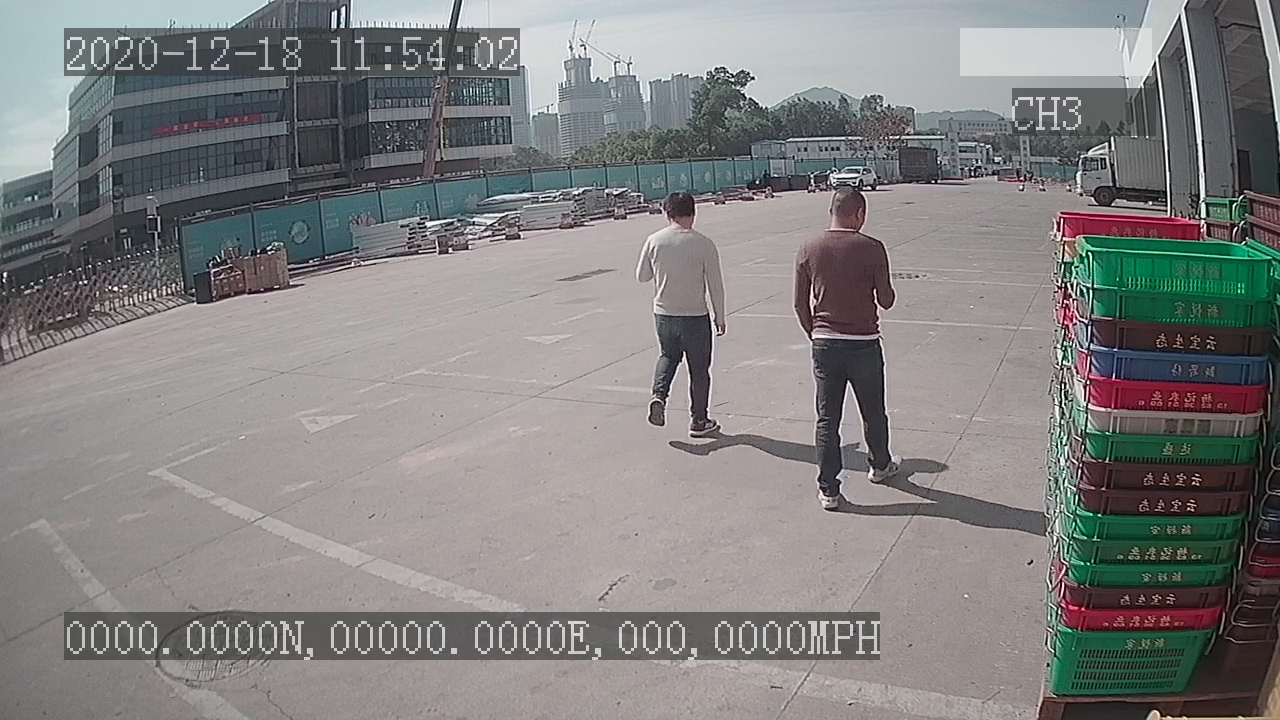person: (786, 181, 913, 517), (627, 188, 731, 445)
